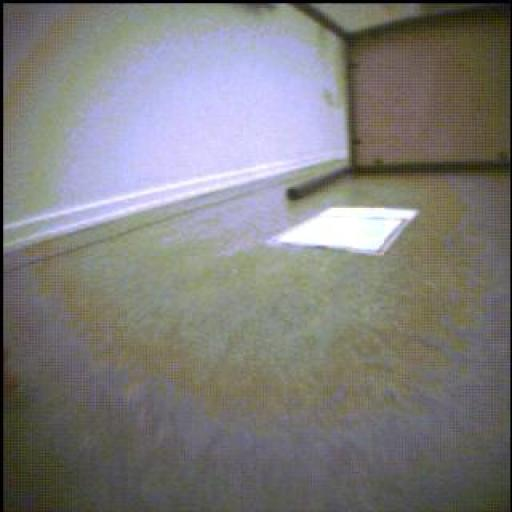Pad: (270, 209, 419, 255)
